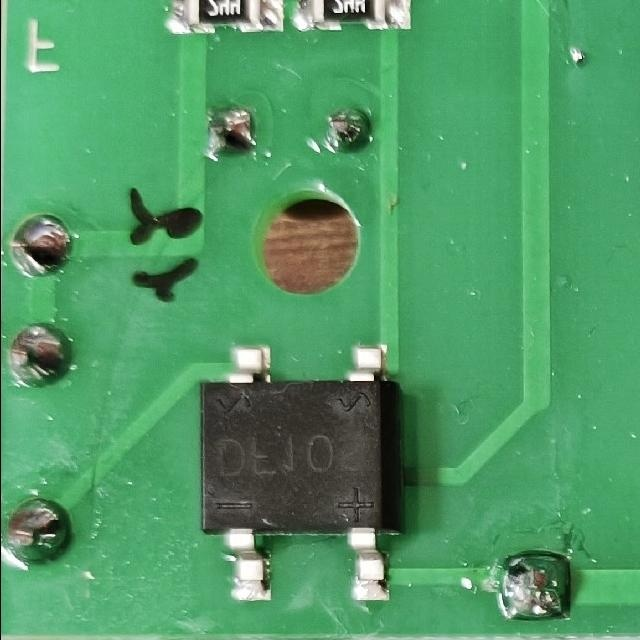chip-resistor: (161, 0, 283, 35), (291, 0, 413, 33)
ic: (192, 339, 404, 608)
